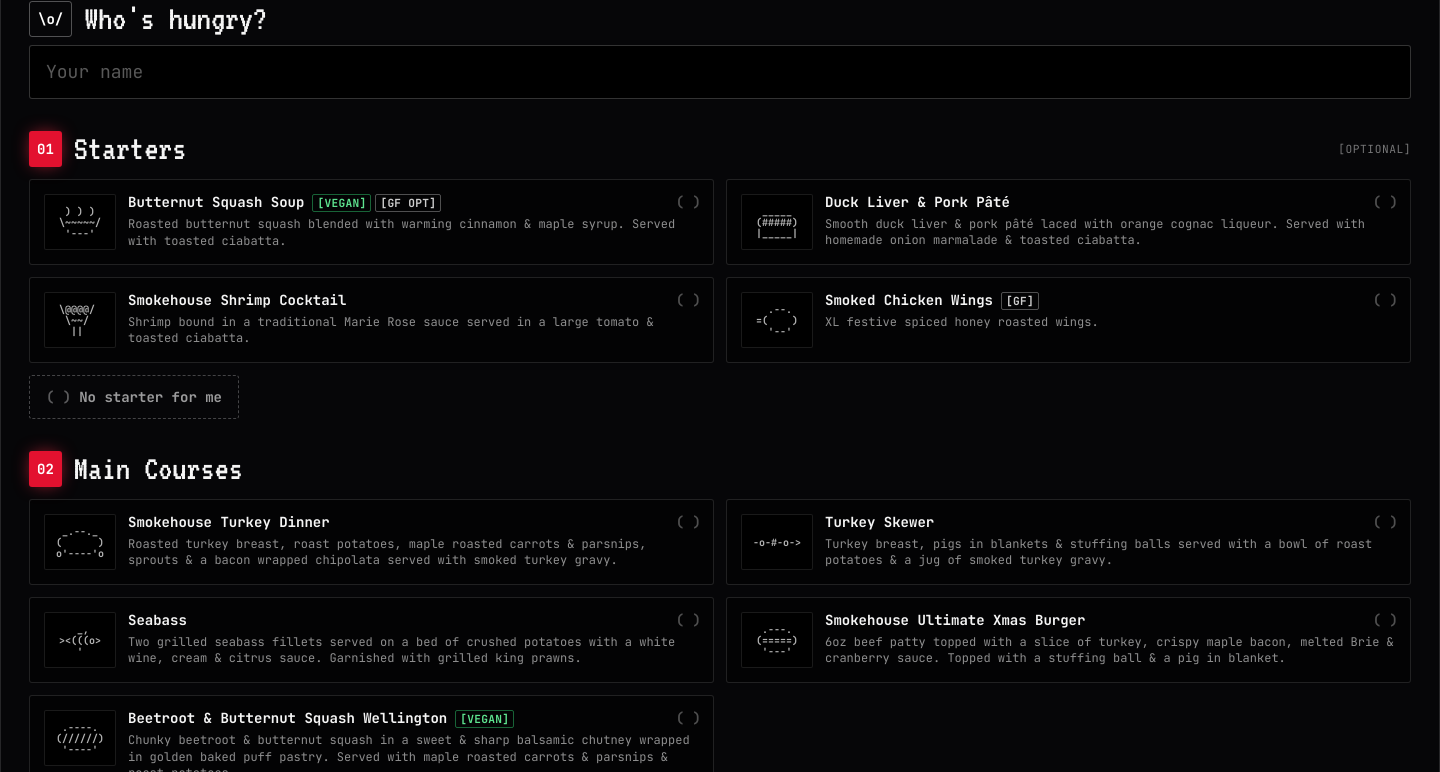
Test: OrderForm › warns straight away if that name has already ordered
In the field with placeholder "Your name": [720, 72] box [29, 45, 1411, 99], type "  JOSH "
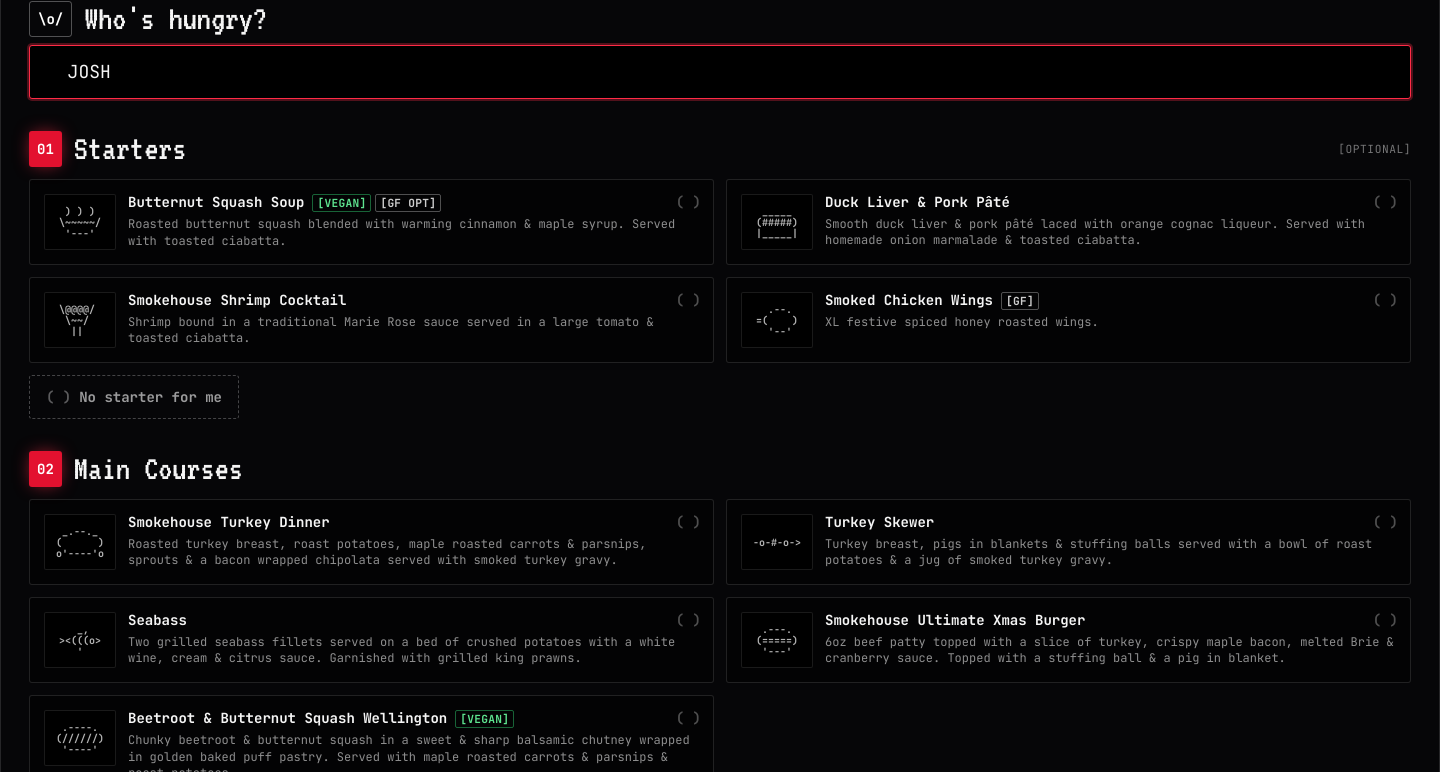
Click the radio button labelled "Shrimp Cocktail": [372, 320] box [29, 277, 714, 363]
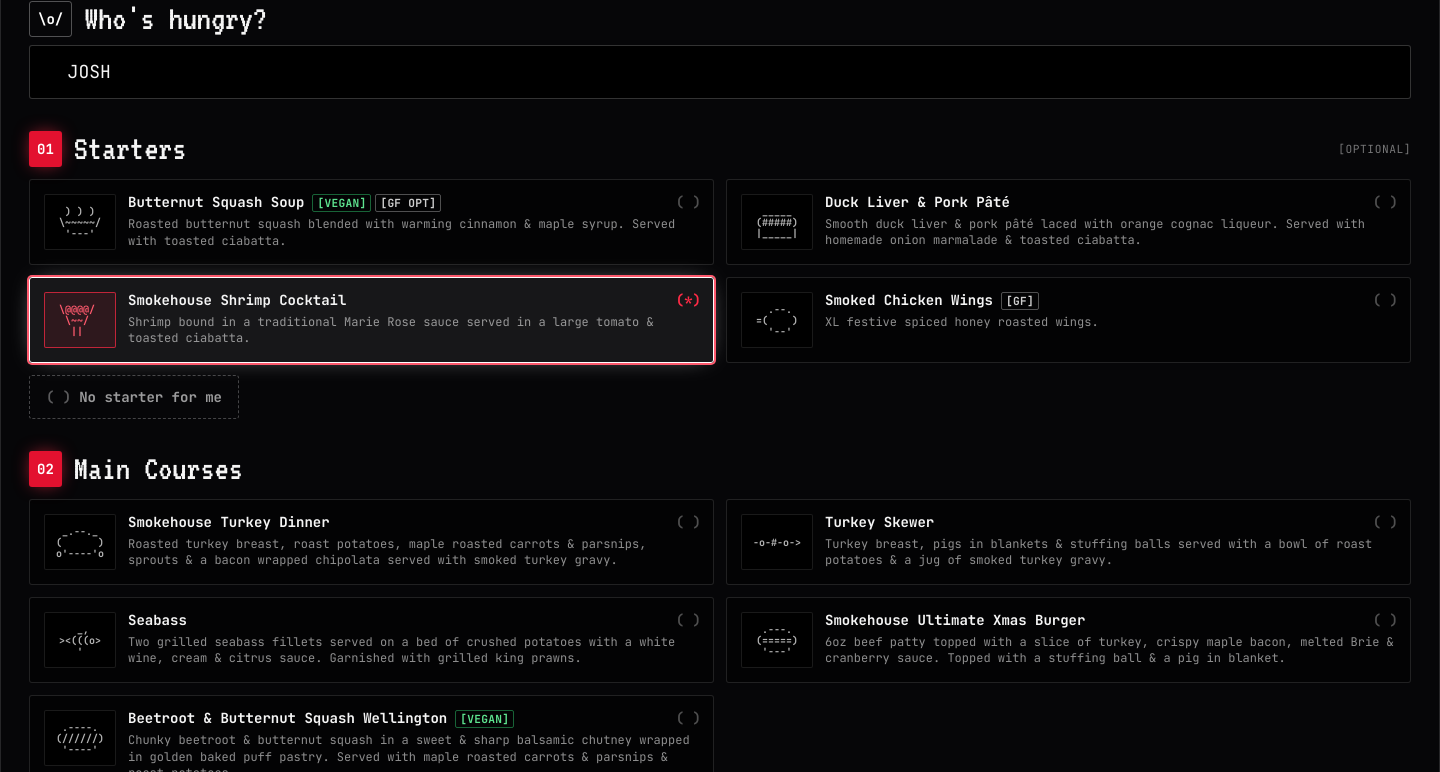
Click the radio button labelled "Seabass": [372, 640] box [29, 597, 714, 683]
(page scrolled)
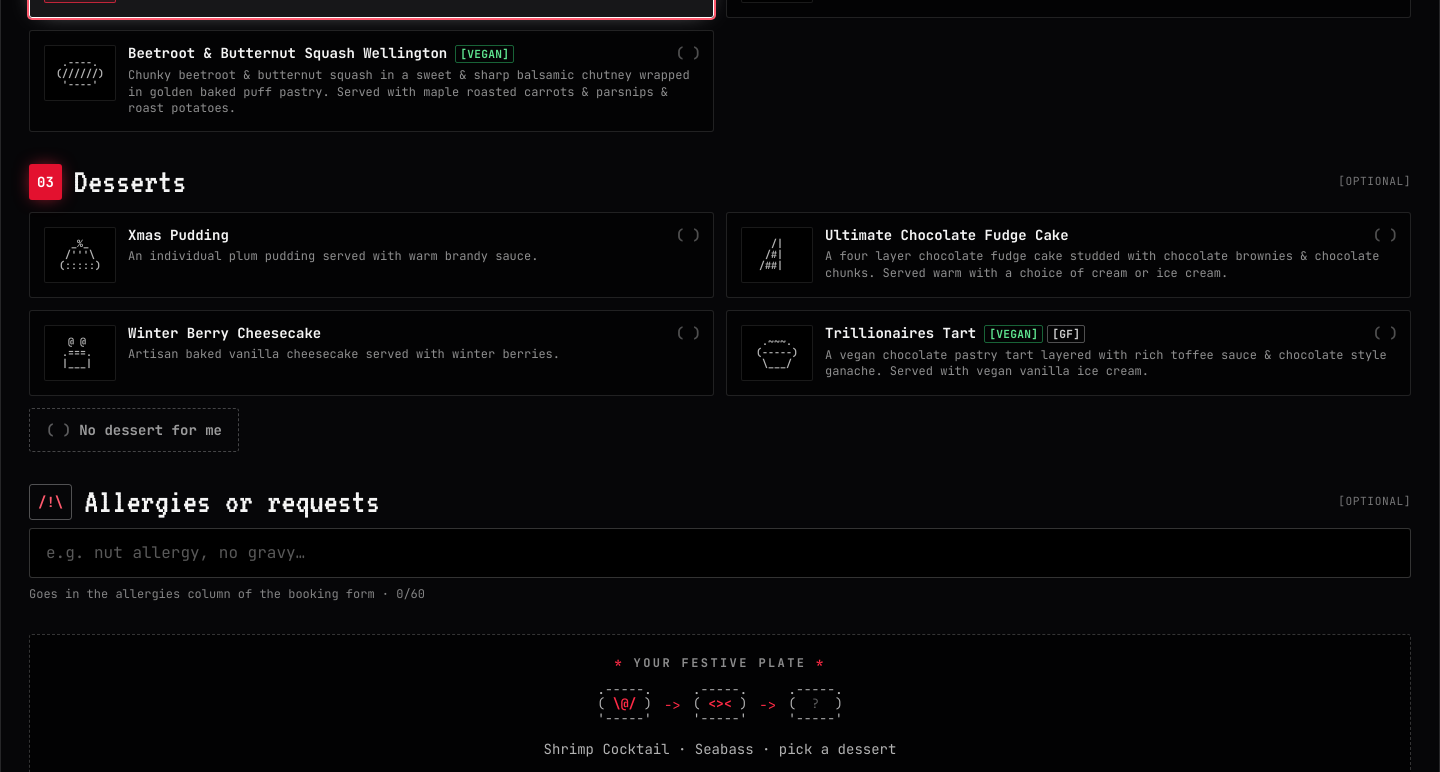
Click the radio button labelled "( ) No dessert for me": [134, 430] box [29, 408, 239, 452]
(page scrolled)
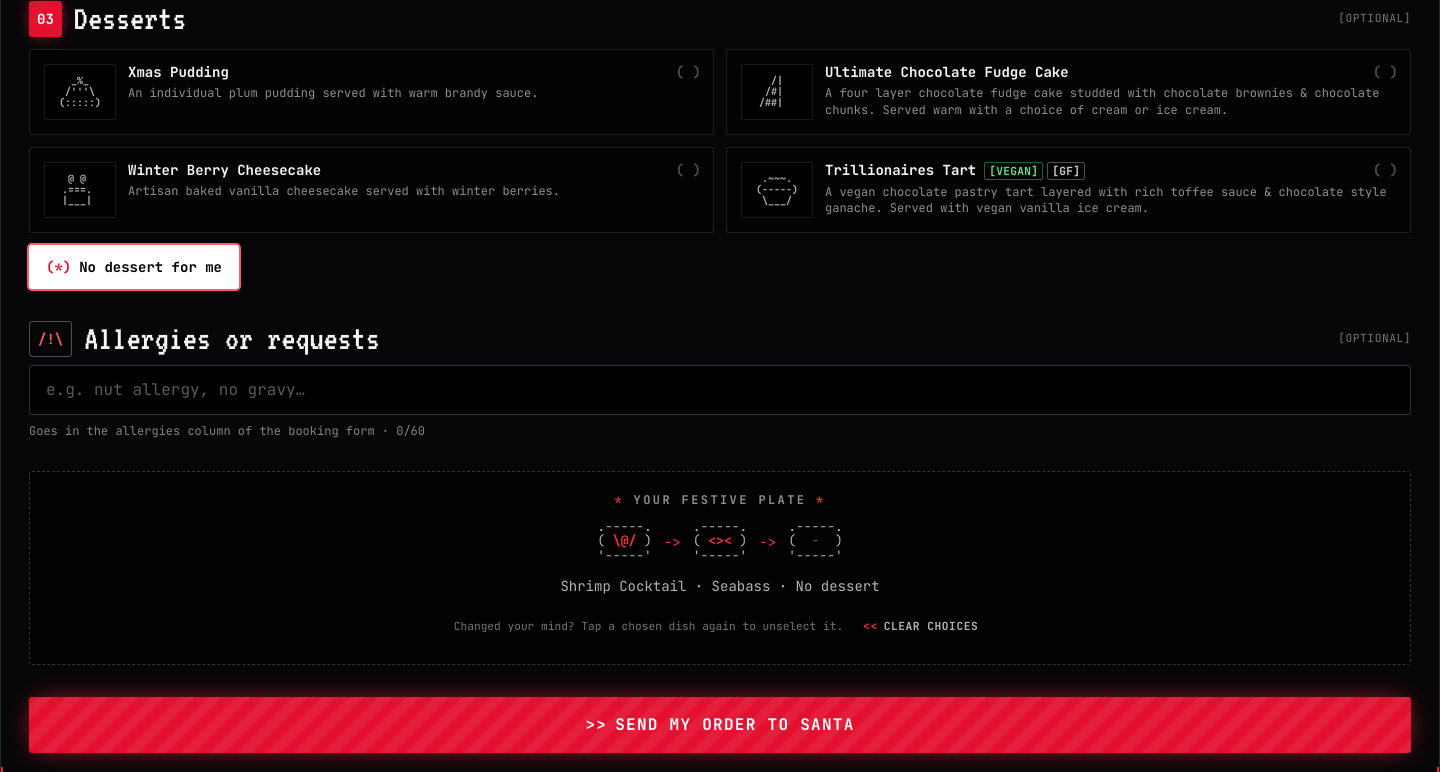
Click the button ">> Send my order to Santa": [720, 725] box [29, 697, 1411, 753]
(page scrolled)
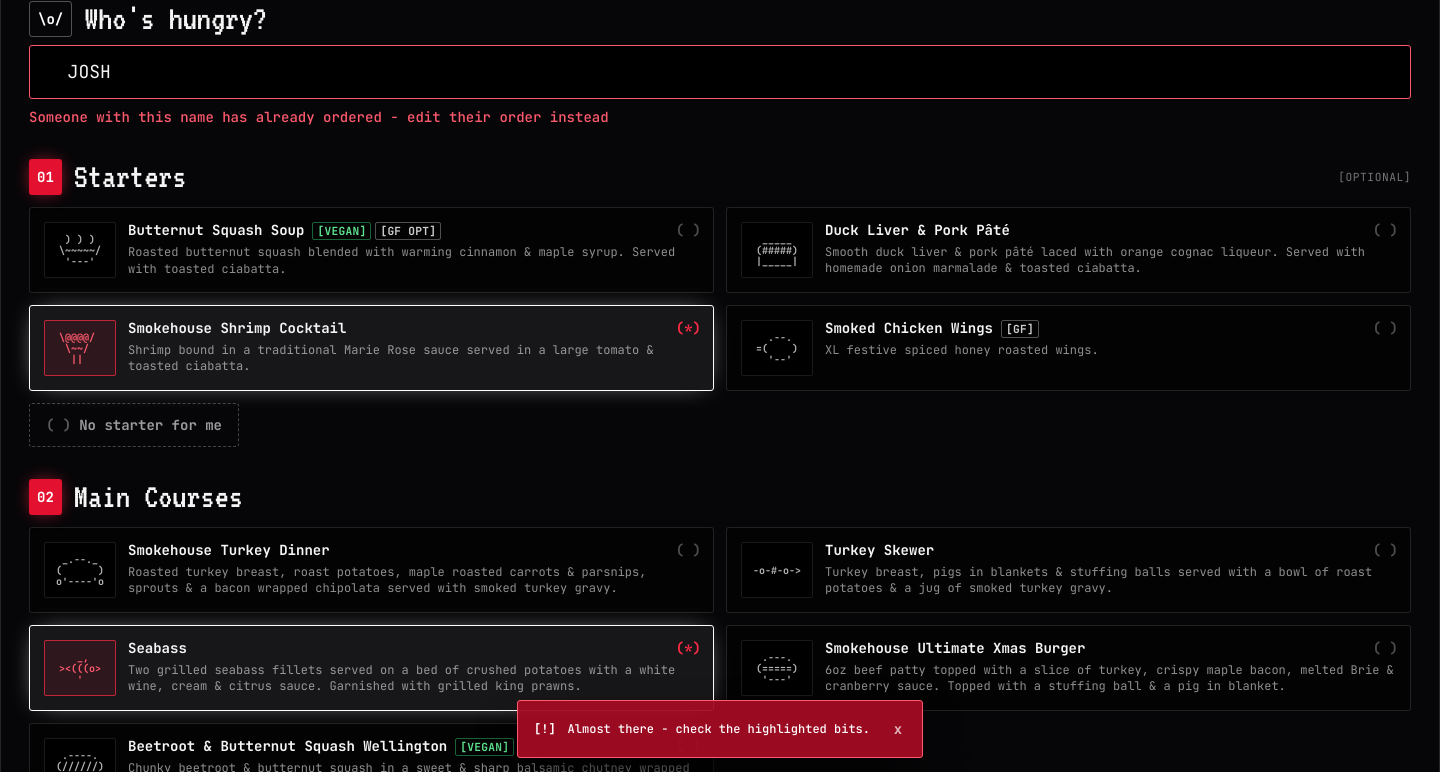
Check: the text "Someone with this name has already ordered - edit their order instead" is shown, box [29, 108, 609, 126]
